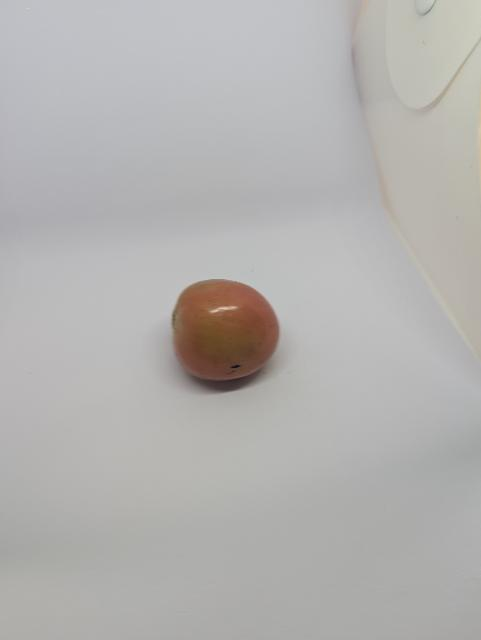turning: (158, 271, 296, 385)
